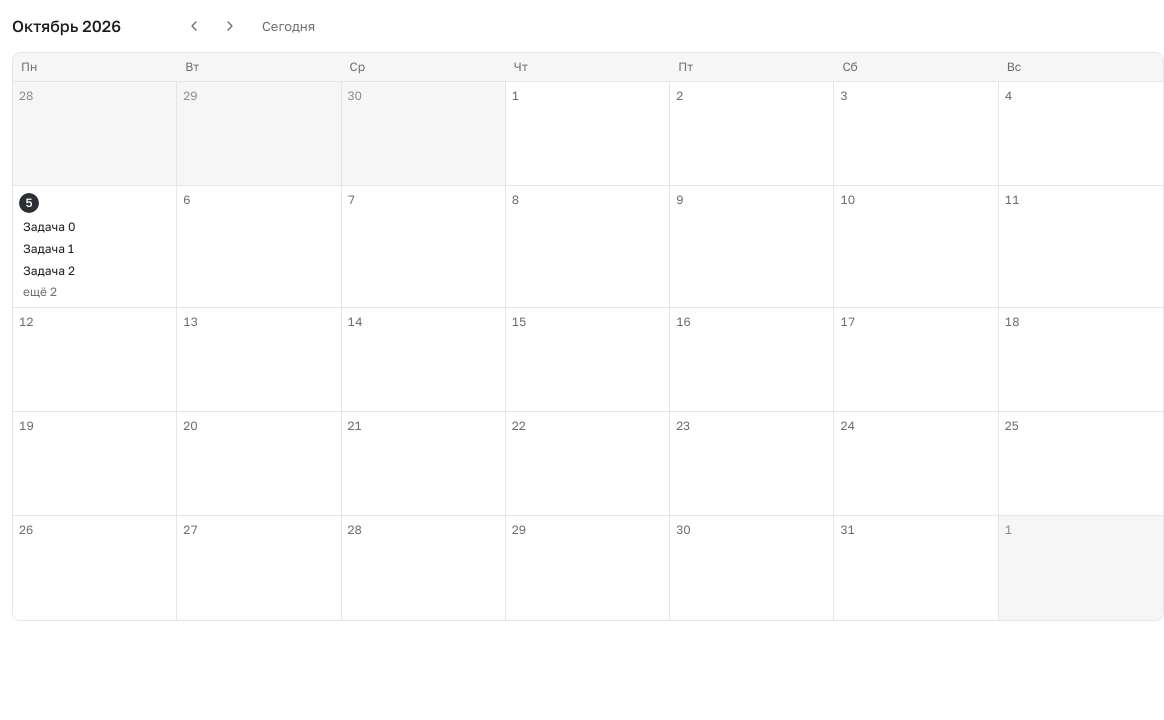
Test: calendar view › collapses busy days and expands them on request
The image size is (1164, 720).
Expected: the text "Задача 4" is not shown
What coordinates should you click on to do the following:
click the button "ещё 2"
I would click on:
 (40, 292)
Its box is 19,284 -> 61,300.
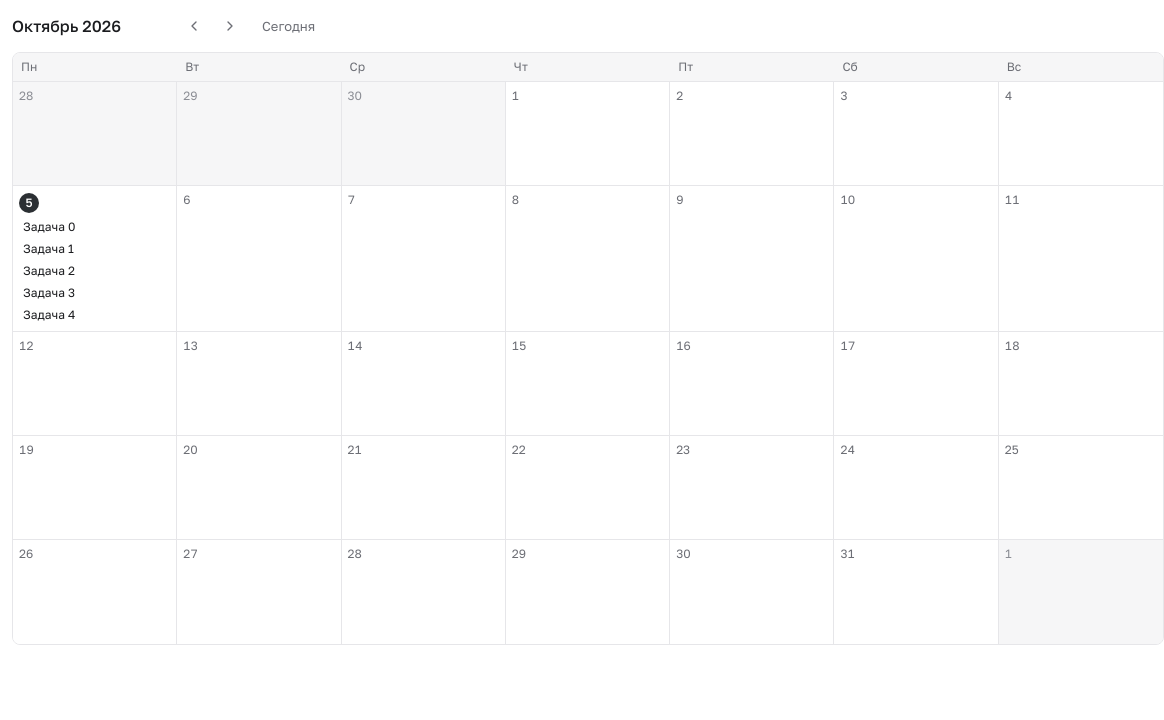
Expected: the text "Задача 4" is shown, 23,307 -> 75,323
